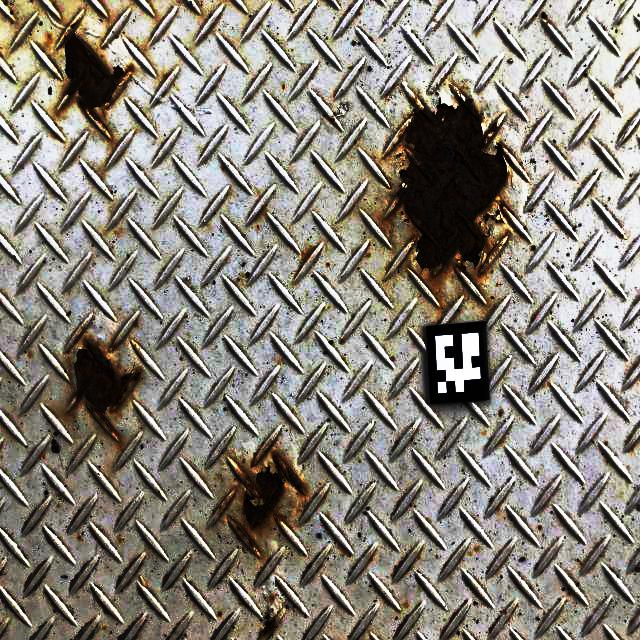Corrosion: (383, 83, 515, 285), (217, 439, 308, 556), (57, 16, 134, 134), (68, 326, 143, 438), (259, 606, 281, 640), (299, 246, 318, 271), (164, 73, 171, 82), (329, 117, 336, 123), (342, 548, 349, 554), (341, 339, 345, 343), (218, 612, 222, 616), (78, 535, 81, 540), (271, 596, 274, 600), (282, 85, 284, 89)
